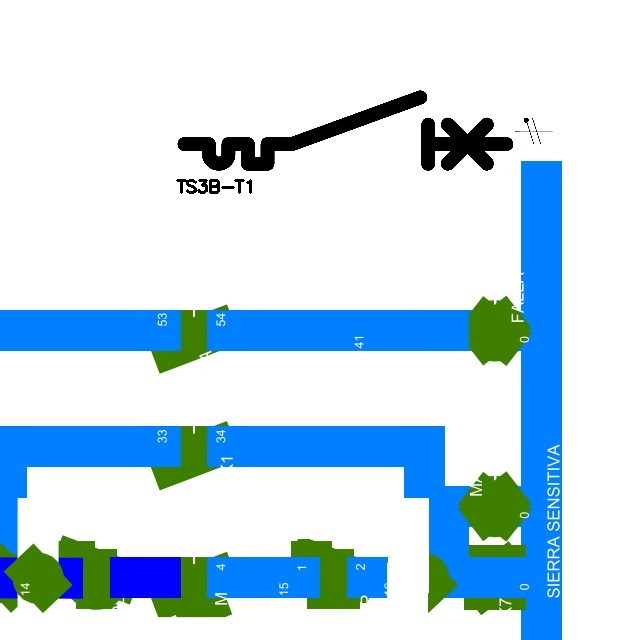interruptor_termomagnetico: (176, 89, 514, 172)
